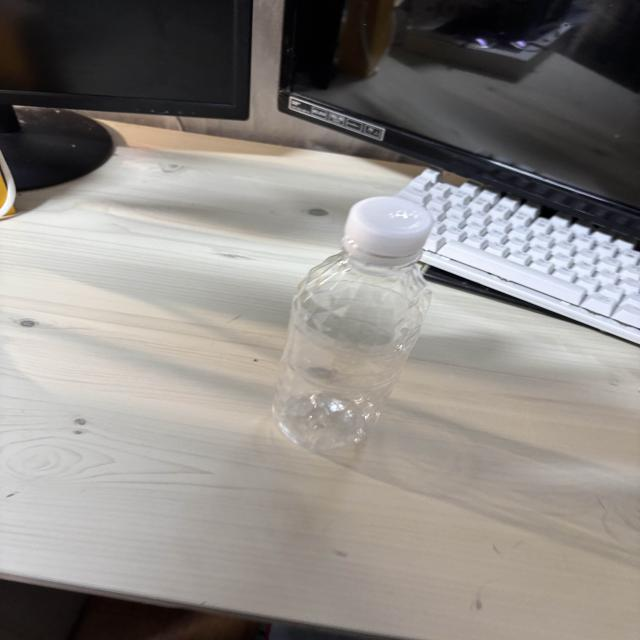Plastic: (257, 195, 447, 456)
